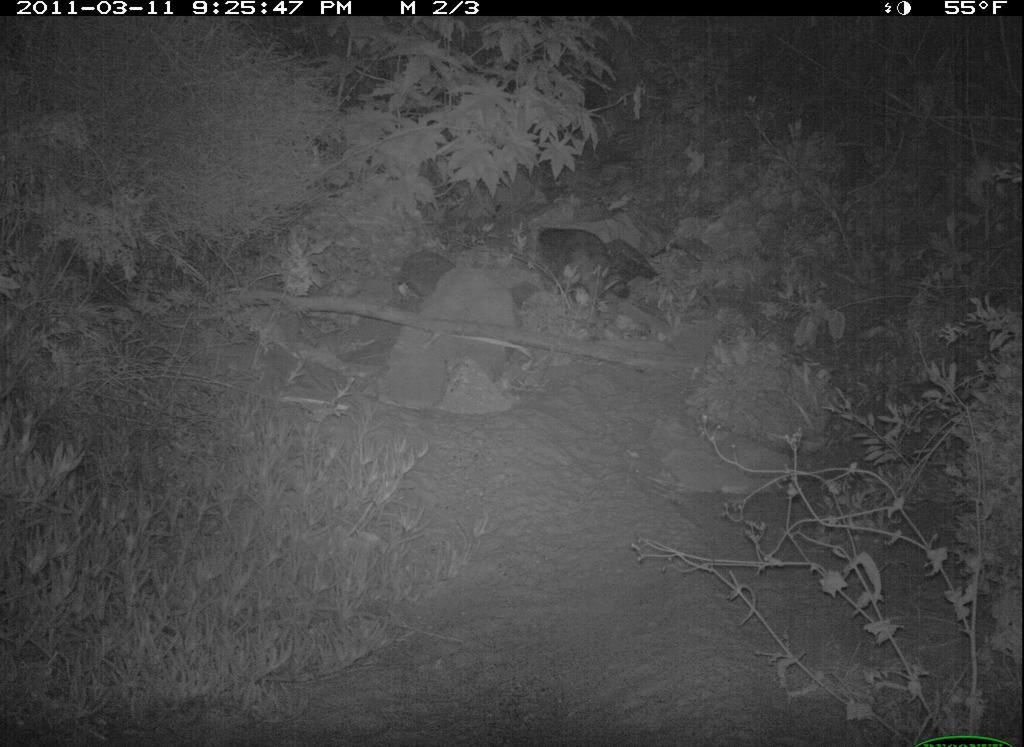raccoon: (534, 221, 638, 315)
